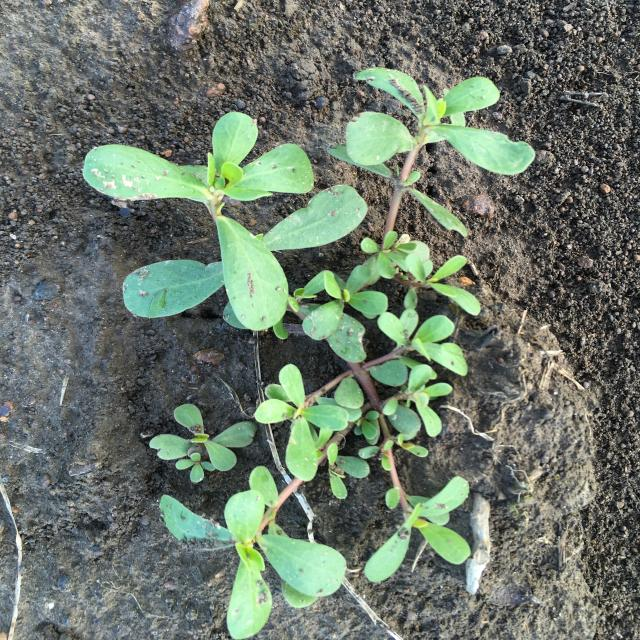Purslane: (83, 67, 536, 640), (149, 403, 258, 483)
